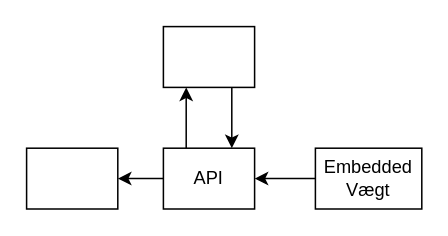
The diagram is 448 pixels wide and 236 high, and some of its shapes have lost their labels. The shapes that lost their labels are listed below. From the top down, each one's centre as x and y in pixels, then its label:
(208,56): App
(71,178): Database
